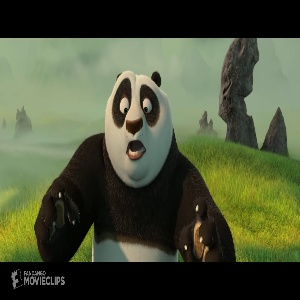po: (39, 67, 239, 261)
